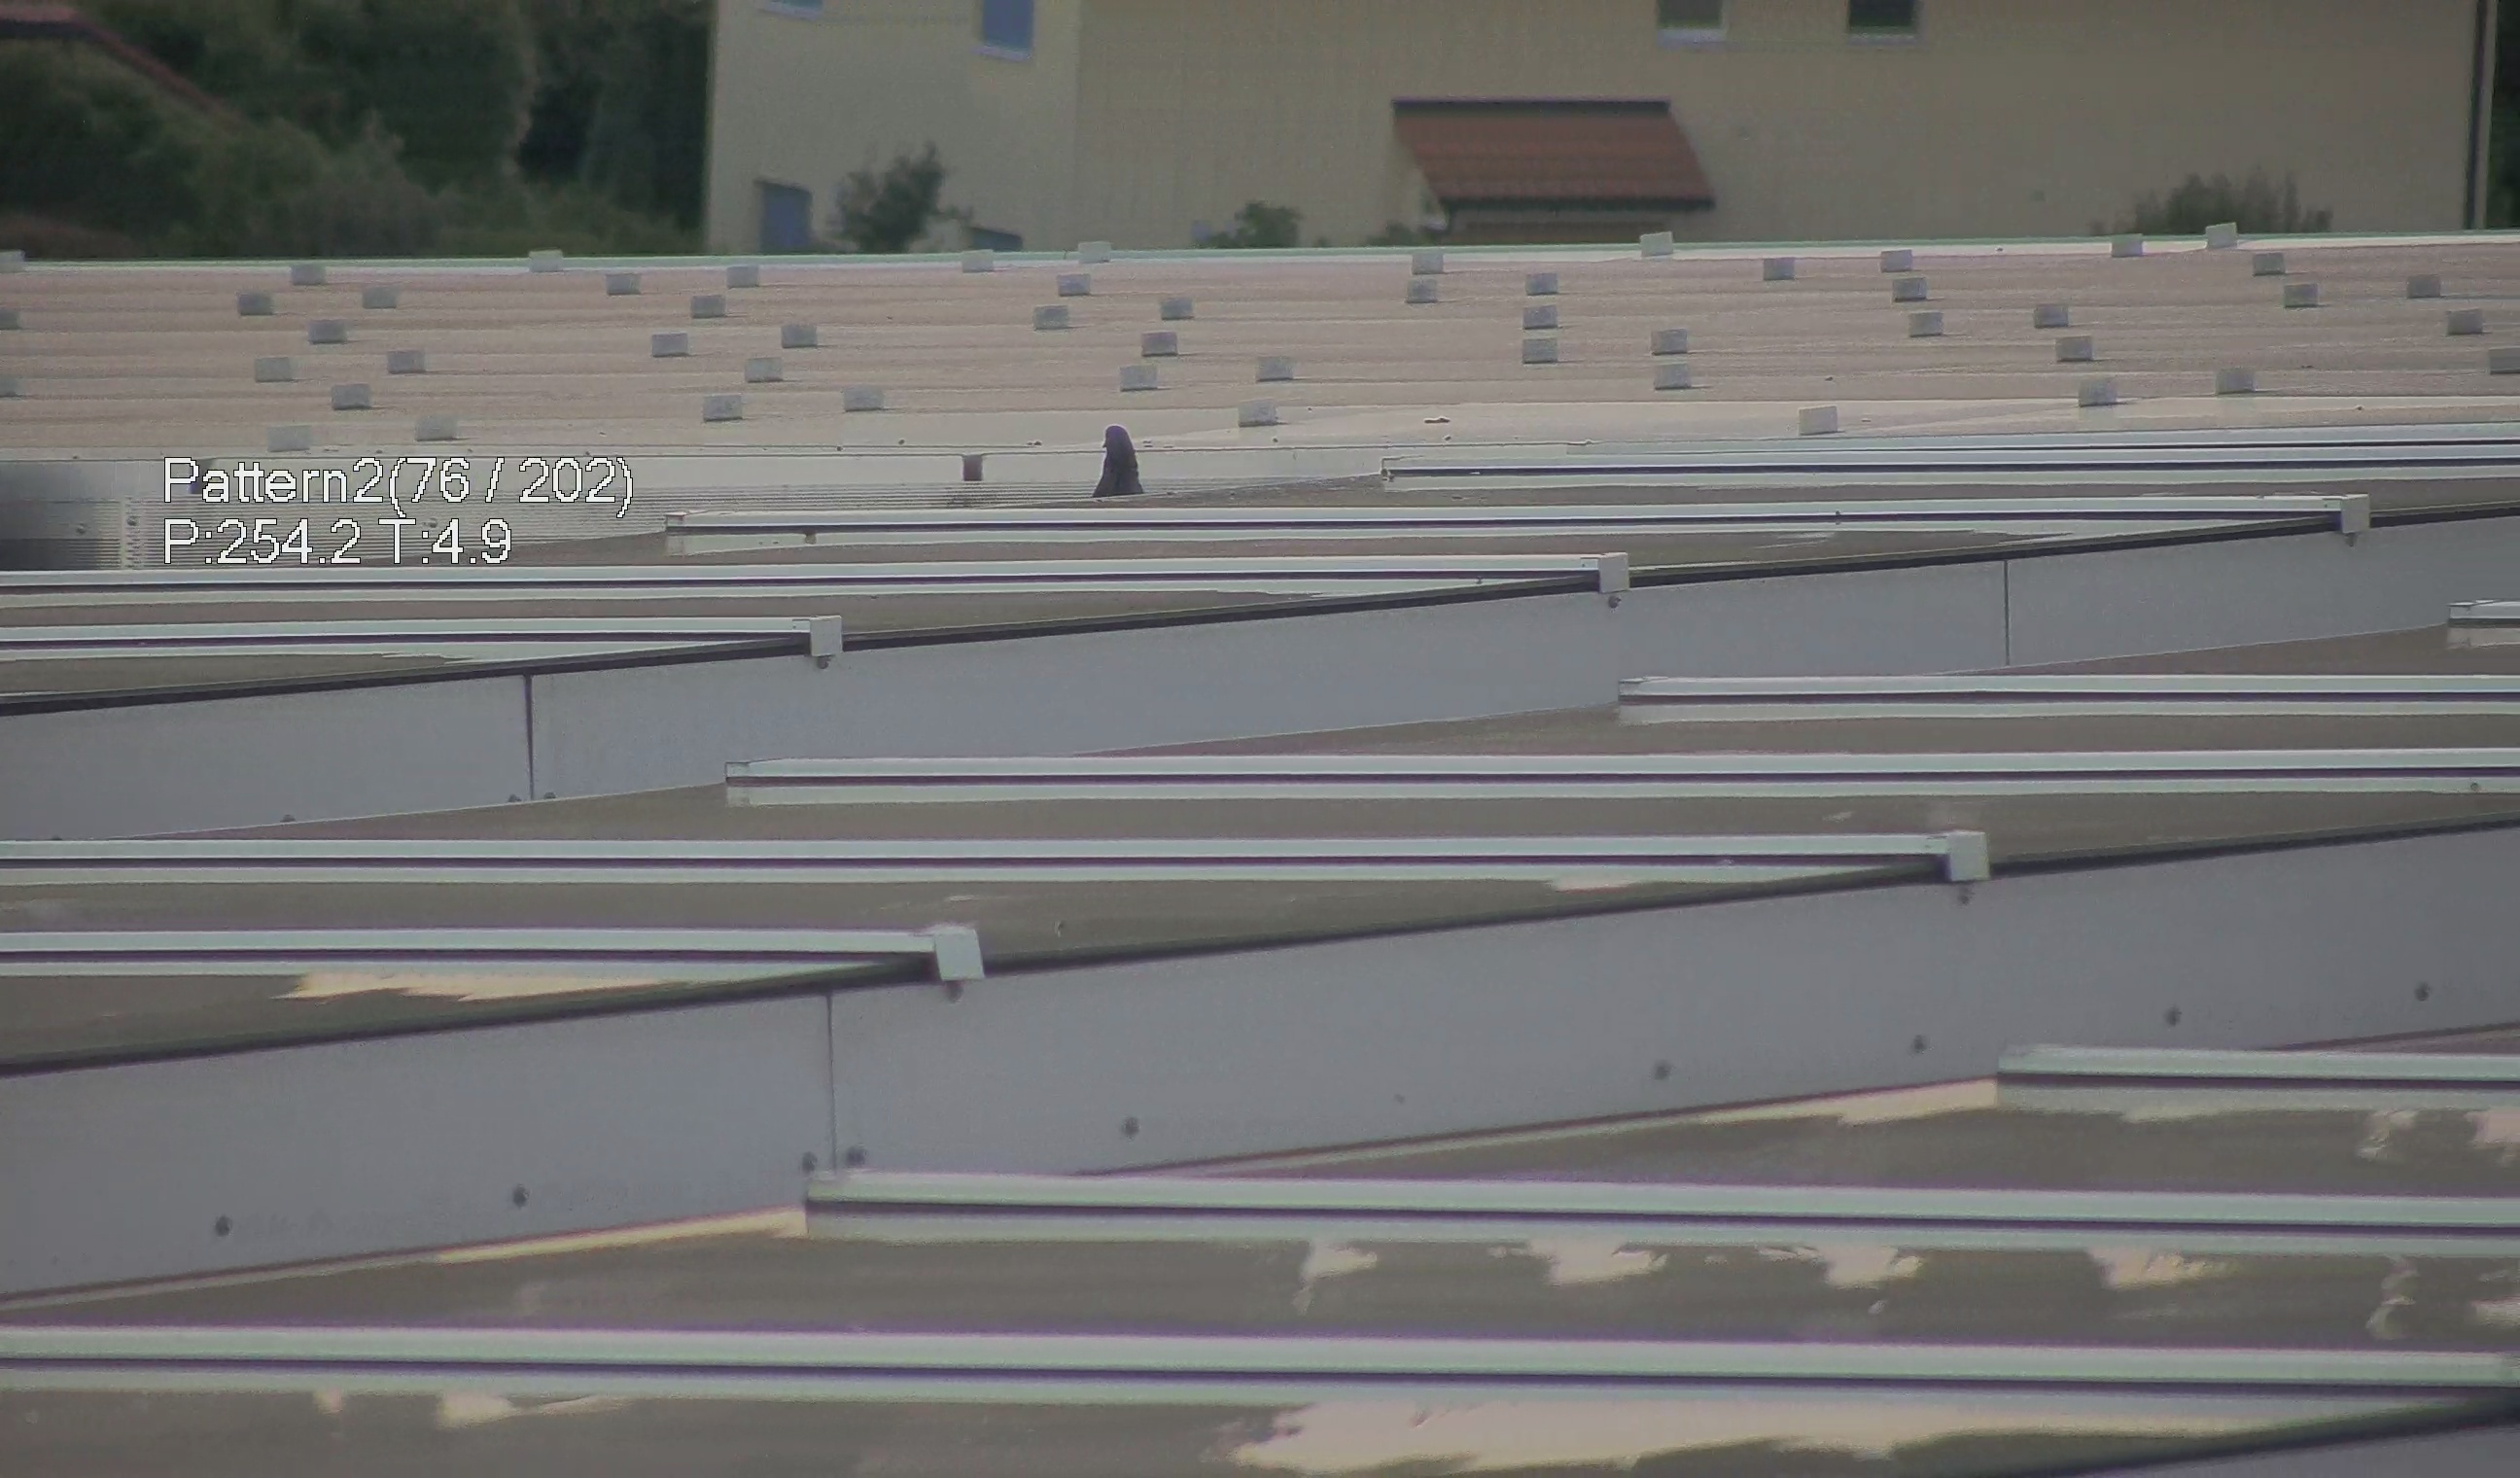Pigeon: (1078, 410, 1143, 500)
